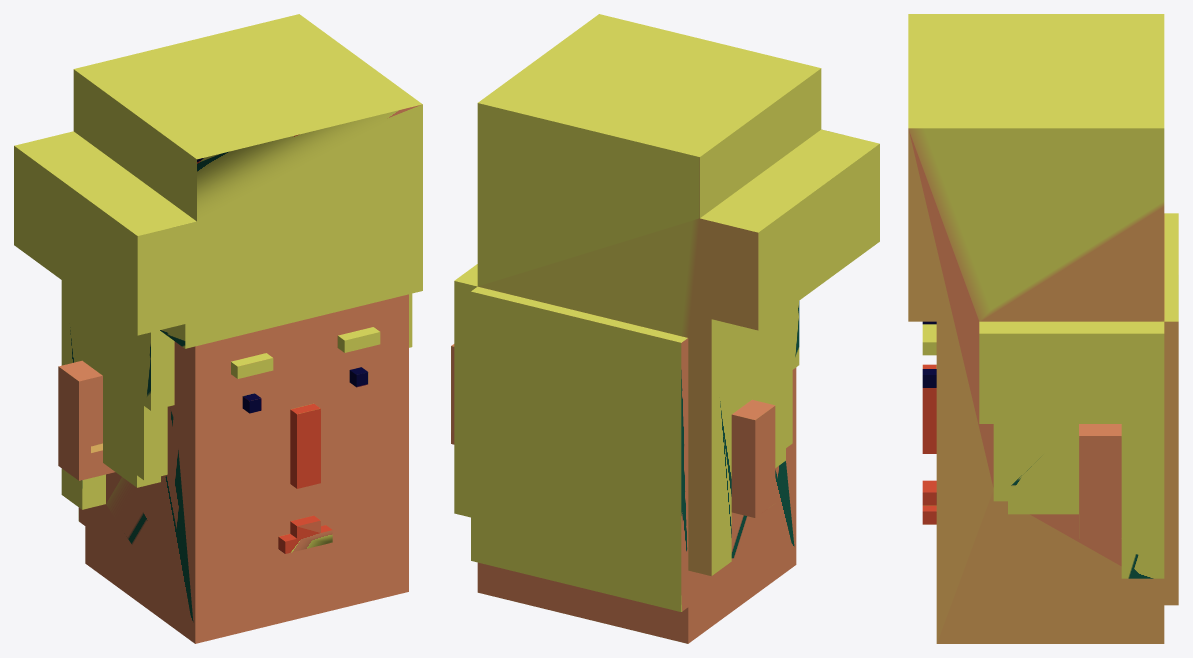
The model's file is trump.gltf.
3 views of the same model, side by side, from view 1: azimuth 30°, elevation 25°; view 2: azimuth 150°, elevation 25°; view 3: azimuth 270°, elevation 25° (orthographic). The views are drawn at different scales.
Visible parts, largest first — view 1: TRUMPCleaned_TRUMP.001; view 2: TRUMPCleaned_TRUMP.001; view 3: TRUMPCleaned_TRUMP.001.
Part boxes in pixels (box(x1,y1,x2,y2)): TRUMPCleaned_TRUMP.001: box(14, 14, 422, 643); TRUMPCleaned_TRUMP.001: box(451, 14, 879, 643); TRUMPCleaned_TRUMP.001: box(908, 14, 1178, 643).
Bounding box in the file's own units: 2.8 × 4 × 1.9.
1 material, 1 textured.
